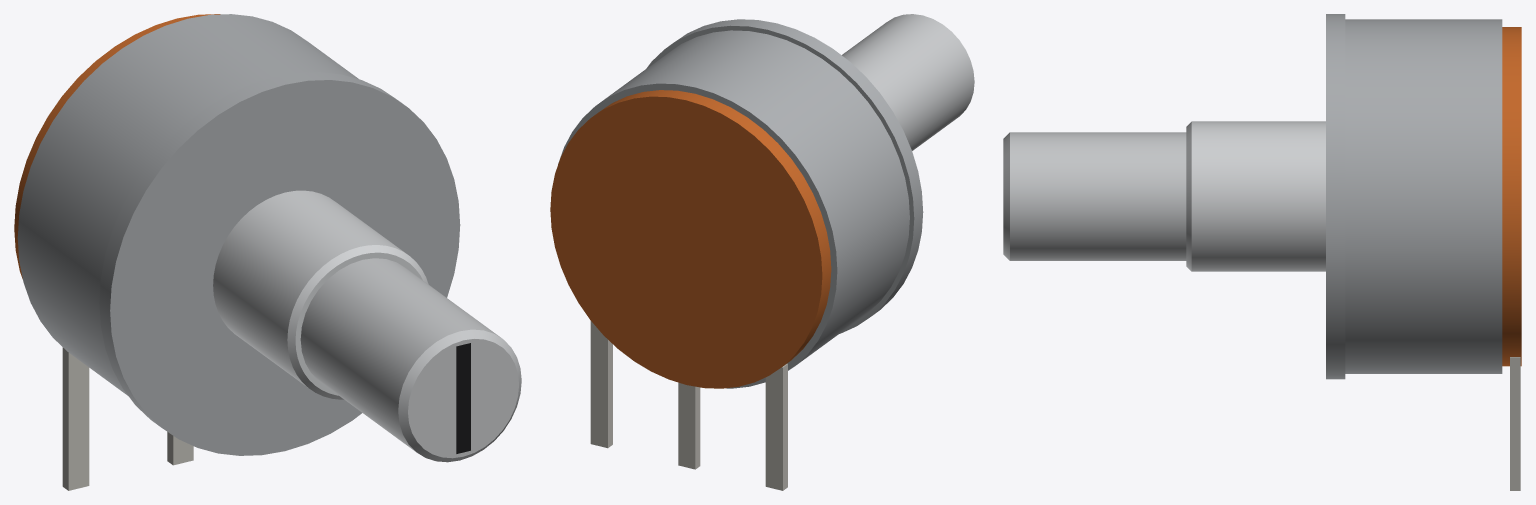
Rendered from potentiometer-10k.glb.
3 views of the same model, side by side, from view 1: azimuth 30°, elevation 25°; view 2: azimuth 150°, elevation 25°; view 3: azimuth 270°, elevation 25° (orthographic). The views are drawn at different scales.
Parts seen in each view (by area): view 1: body, shaft; view 2: body, shaft; view 3: body, shaft.
Boxes of the visible parts, x1,y1,x2,y2 form: body: [14, 14, 460, 490]; shaft: [300, 258, 521, 462]; body: [550, 19, 923, 490]; shaft: [842, 14, 974, 150]; body: [1186, 14, 1521, 490]; shaft: [1003, 132, 1186, 260].
Size of the model in its own units: 17 by 21 by 24.11.
